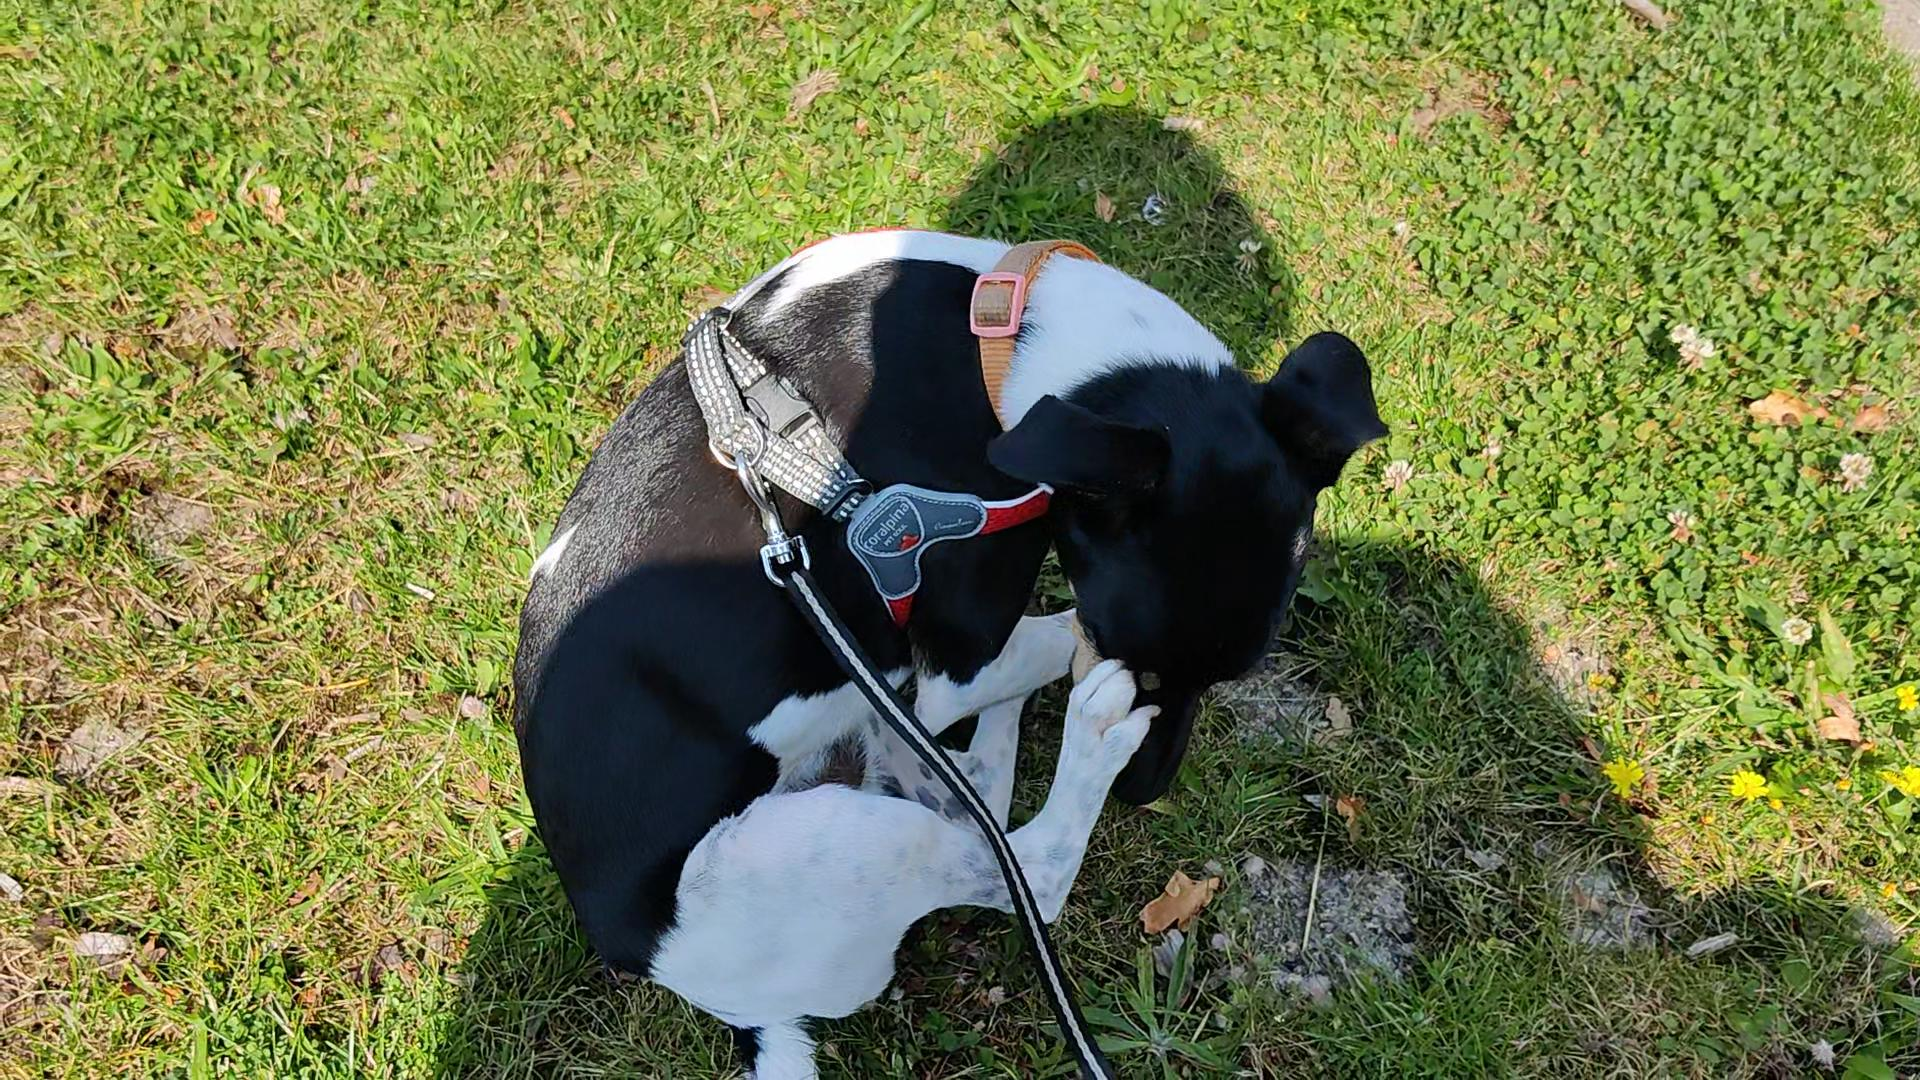Dog: (512, 215, 1400, 1077)
